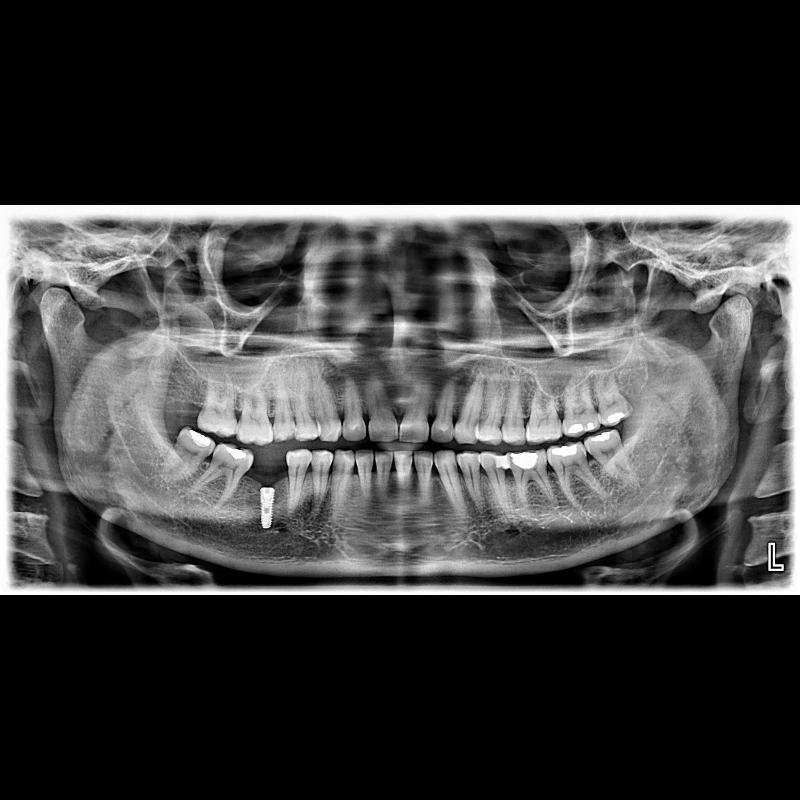osstem: (256, 490, 280, 532)
